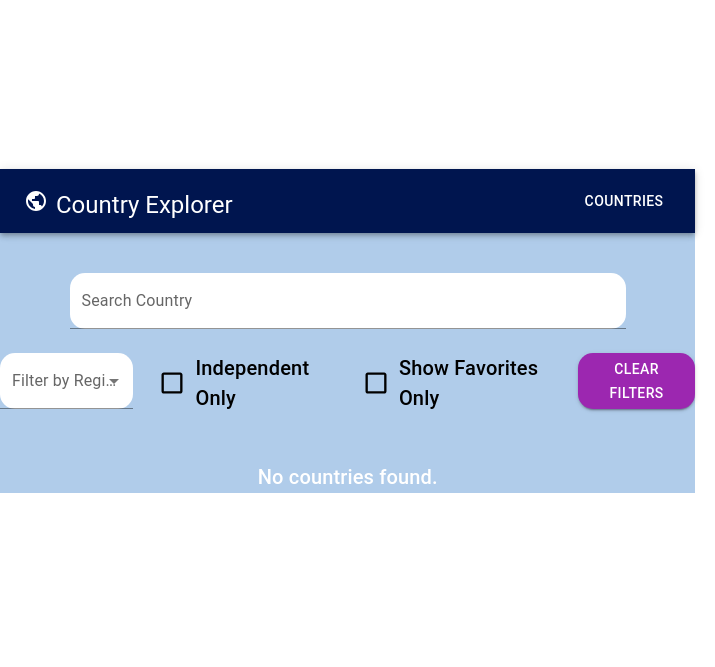
it: filters countries based on search input
Type "japan" into the field labelled "Search Country". click: [348, 301]
box: [70, 273, 626, 329]
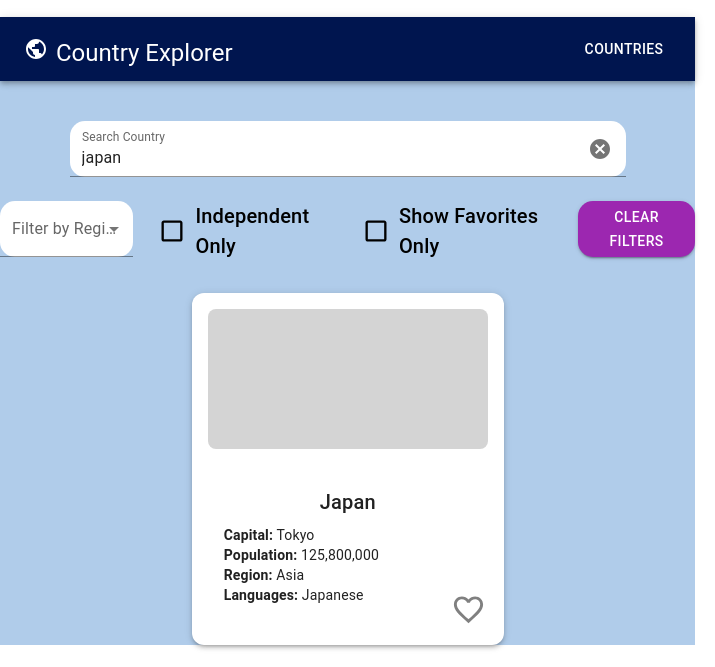
Check: the heading "Japan" is shown, box [320, 490, 376, 514]
